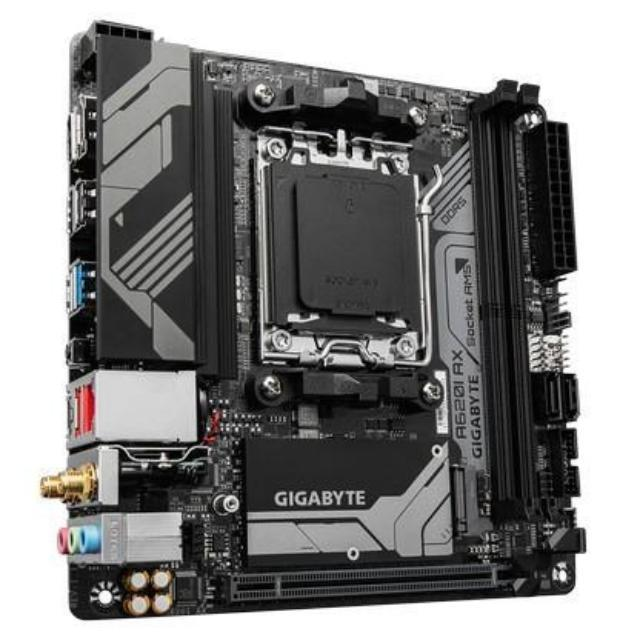Mainboard: (64, 19, 586, 636)
